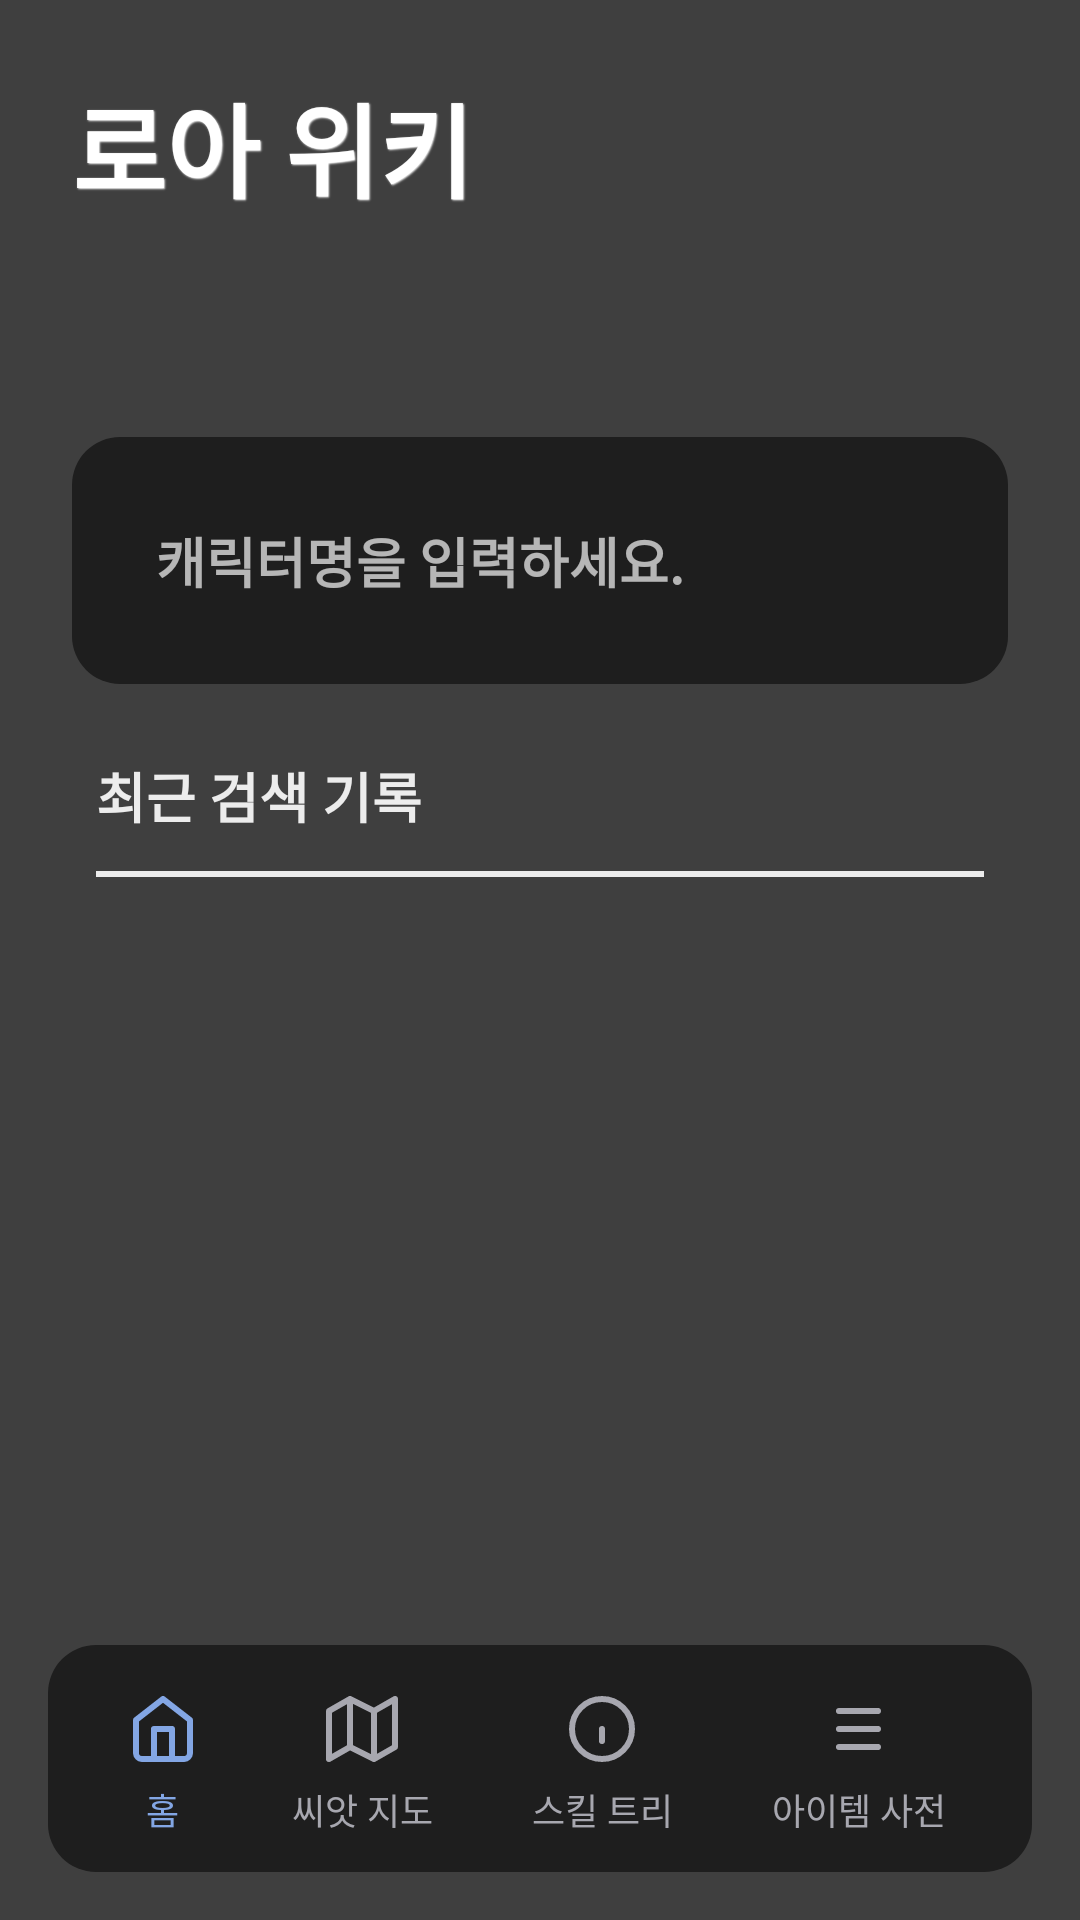

Locate icon controls on the screen. Image size 1080px×1920px, boxes as (x1, y1, x2, y2).
info: (569, 1696, 635, 1762)
list: (836, 1708, 881, 1750)
